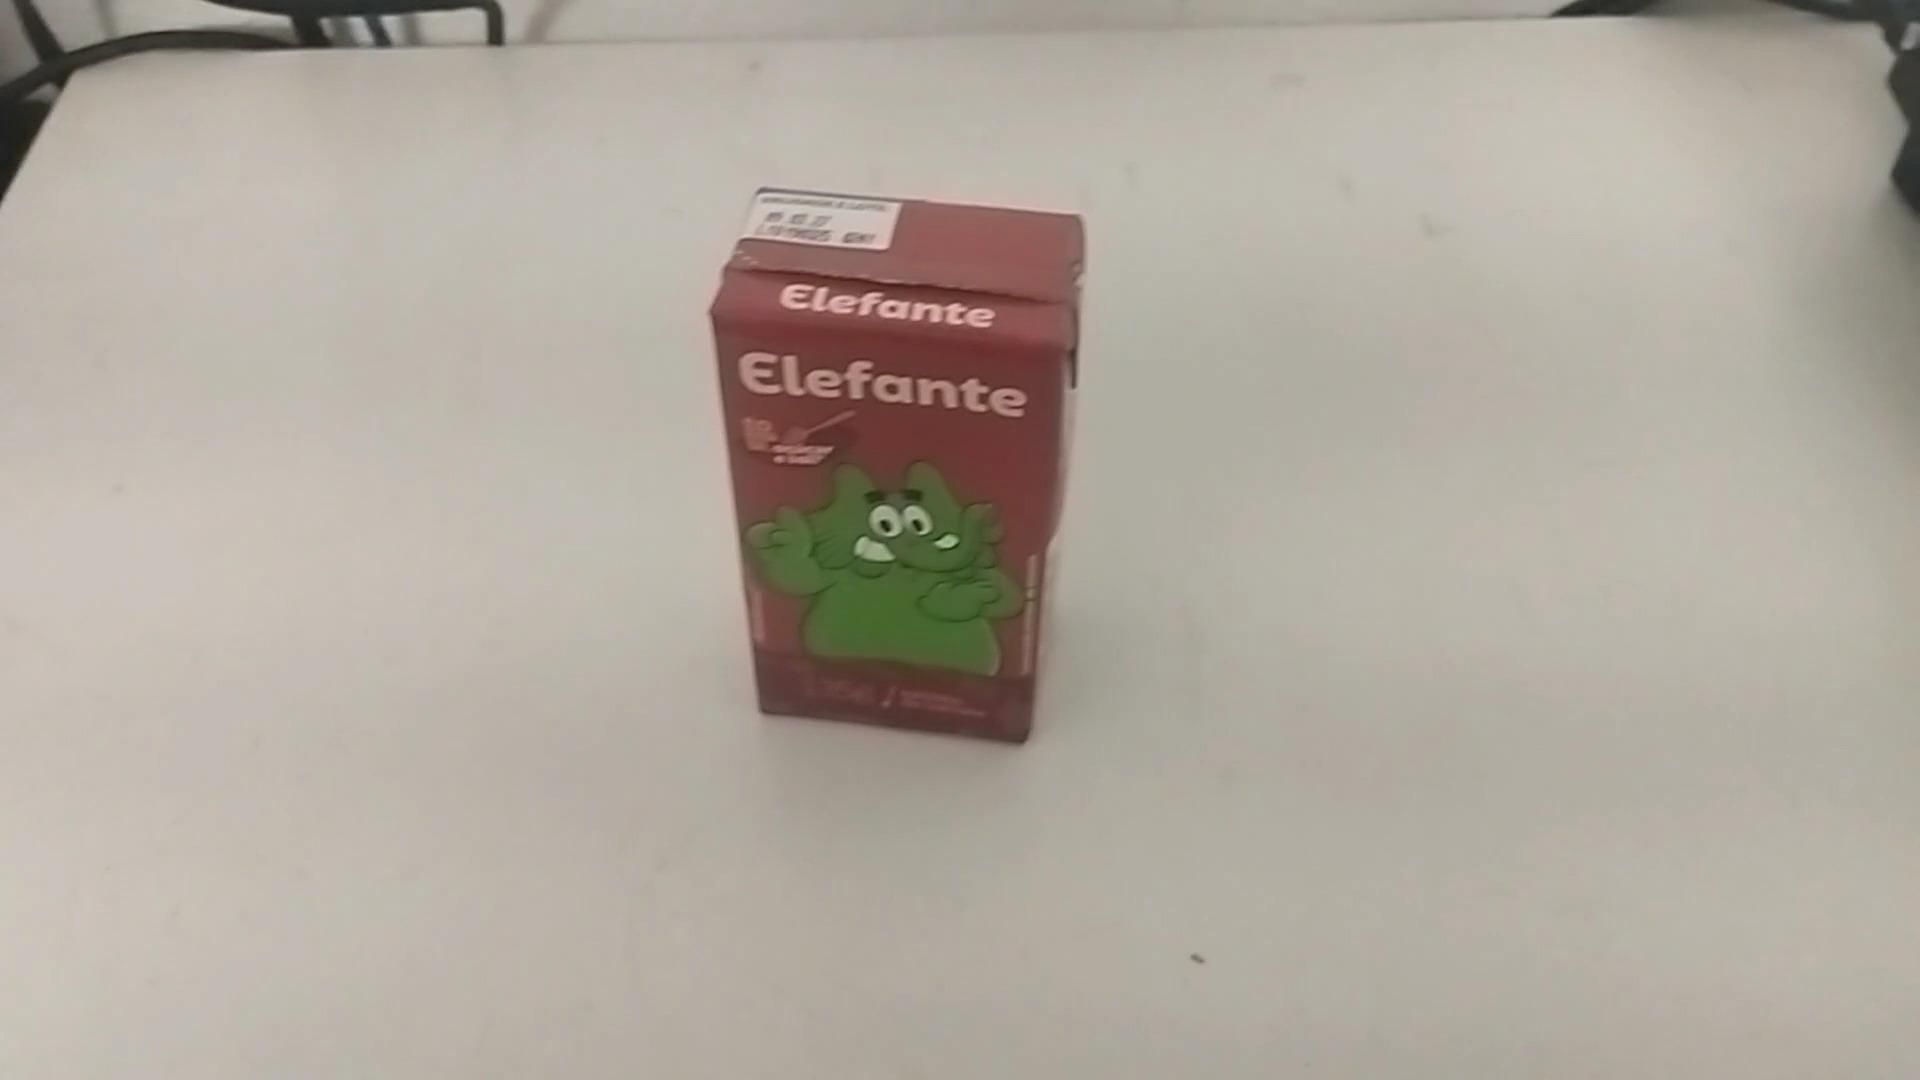tomate: (699, 185, 1098, 749)
